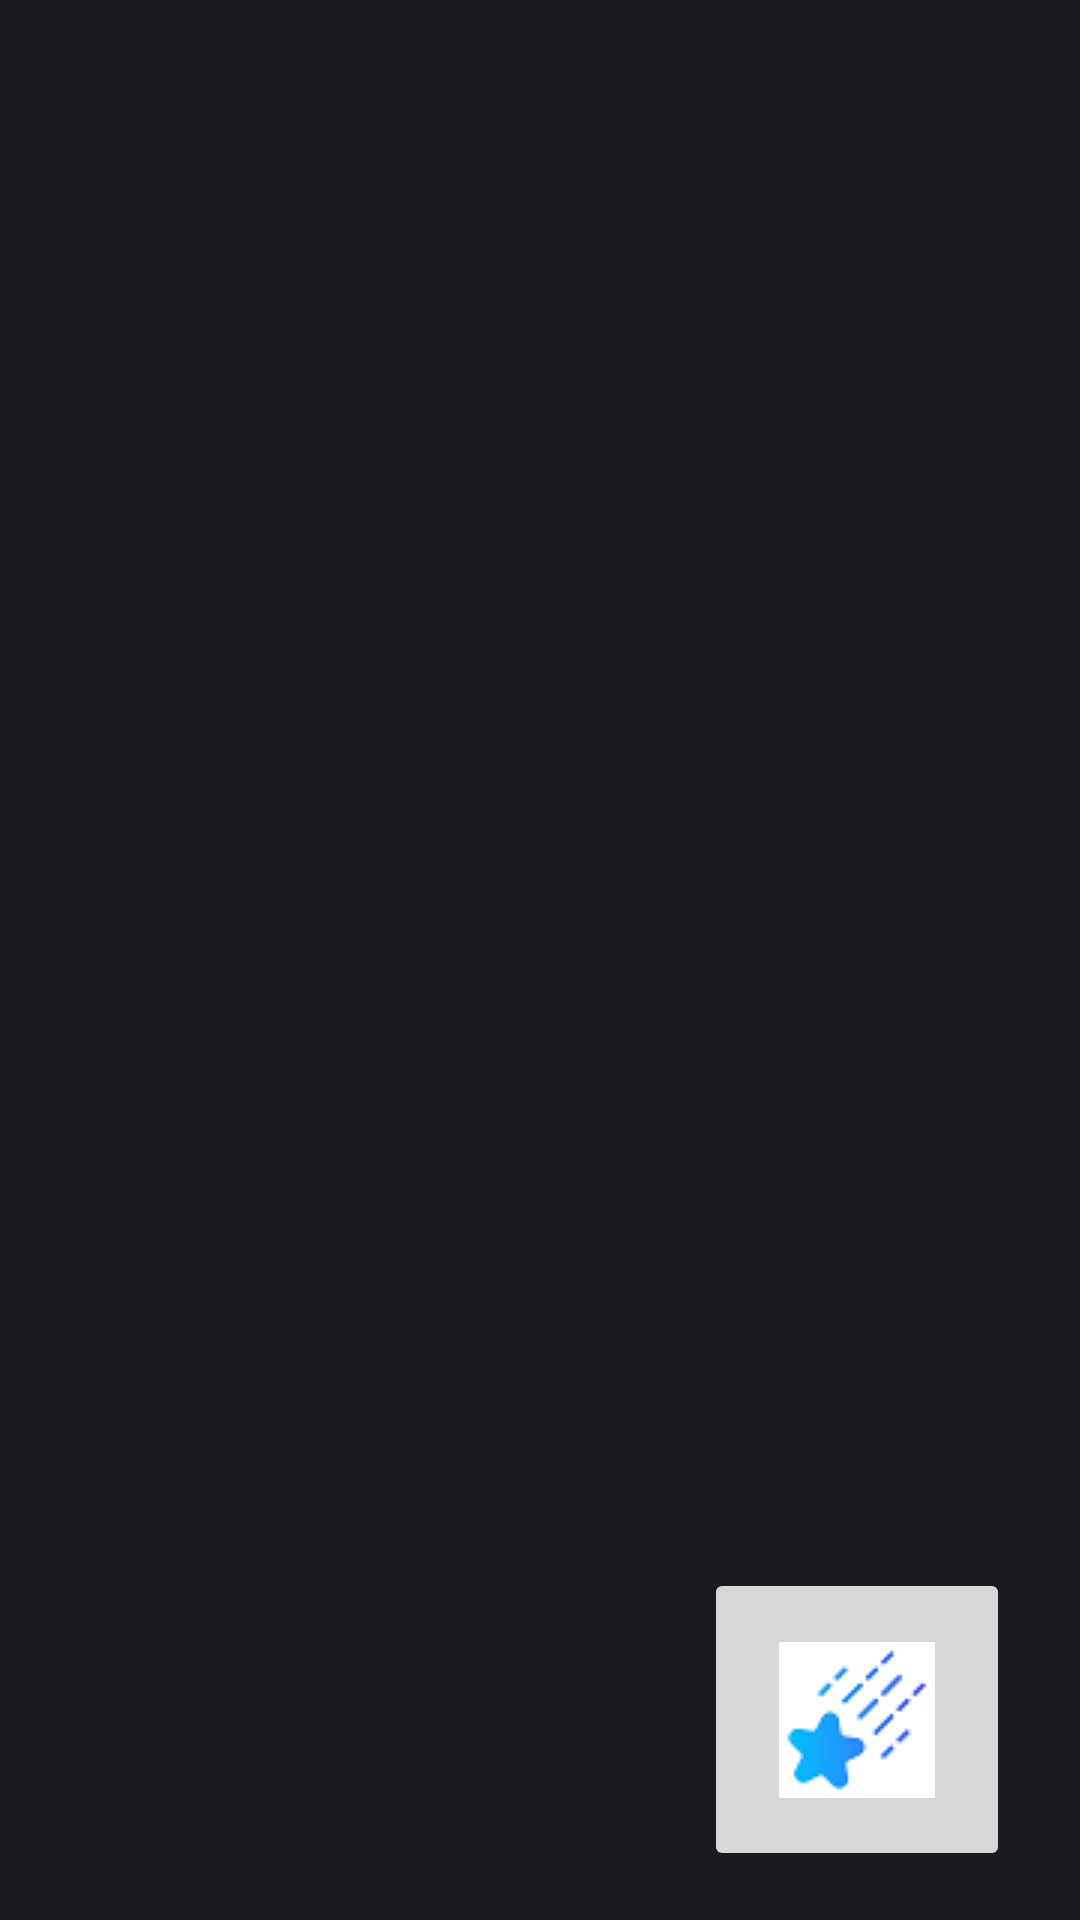

Icon click points for this 1080x1920 phone screenshot, format (x=x, y=y):
star: (x=857, y=1719)
